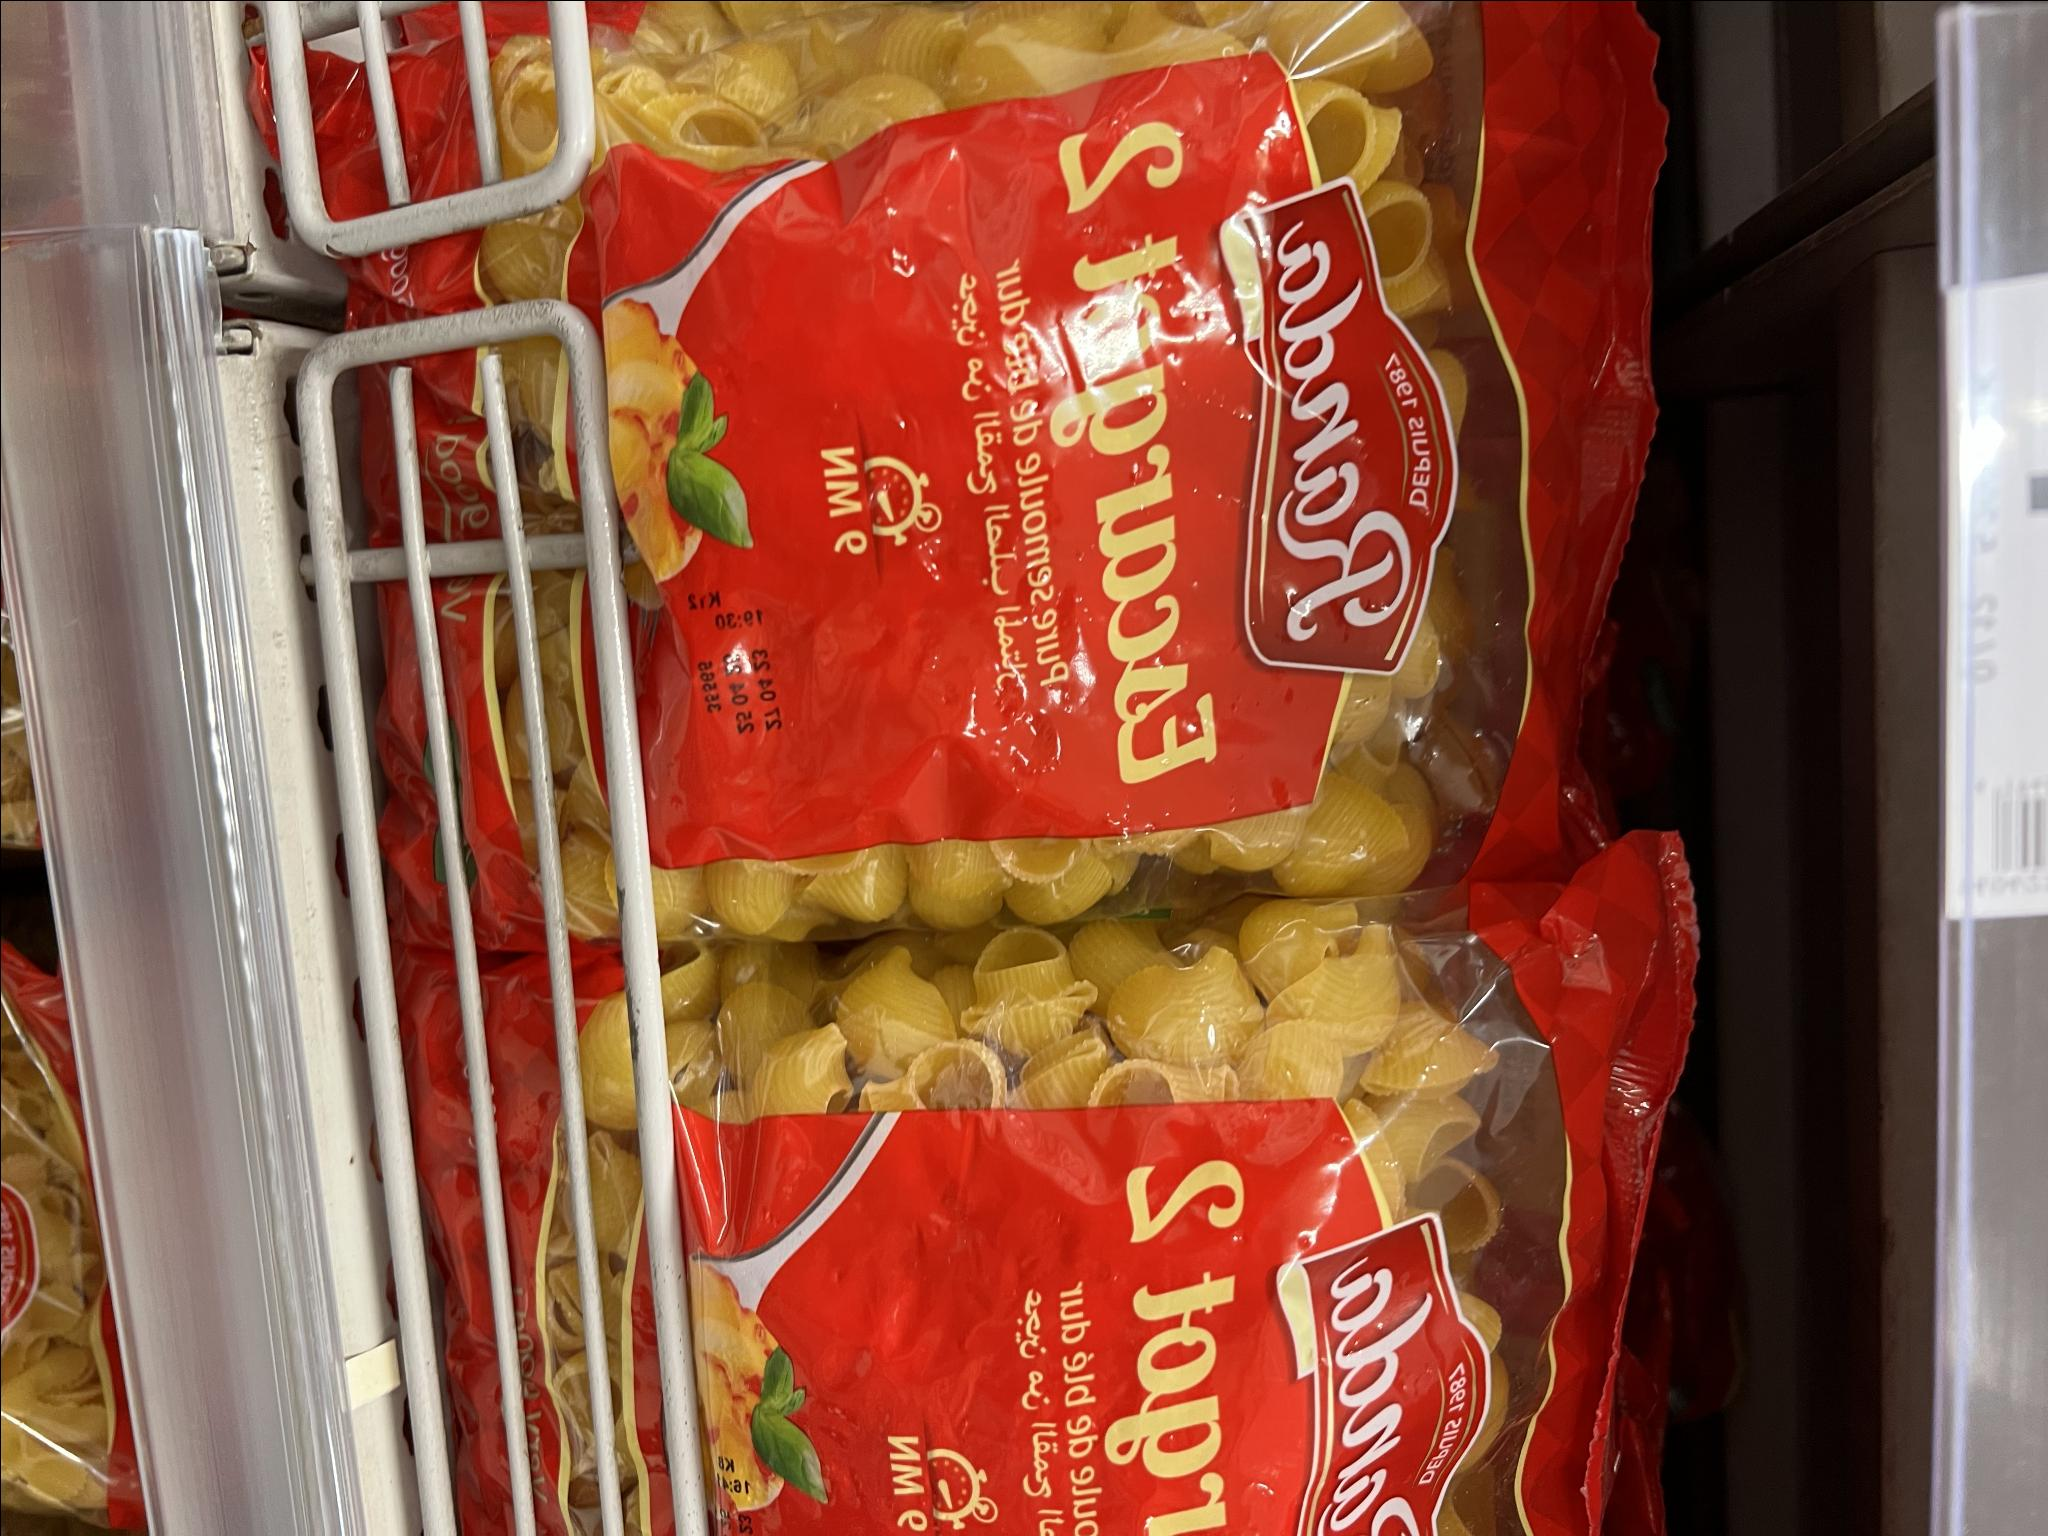Escargot: (264, 5, 1666, 979), (402, 865, 1666, 1534)
